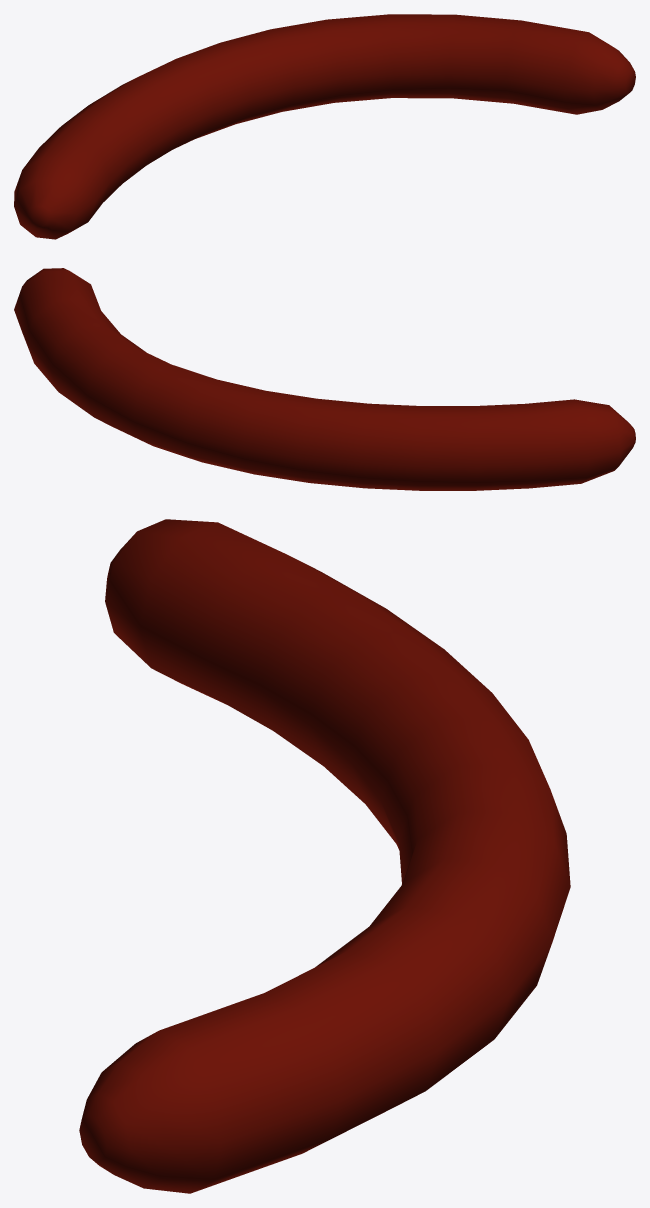
Rendered from Chorizo.fbx.
The picture shows the model from 3 angles, top to bottom: view 1: azimuth 30°, elevation 25°; view 2: azimuth 150°, elevation 25°; view 3: azimuth 270°, elevation 25°; orthographic projection. The views are drawn at different scales.
Visible parts, largest first — view 1: BézierCurve.001; view 2: BézierCurve.001; view 3: BézierCurve.001.
Part boxes in pixels (x1=…): BézierCurve.001: x1=14, y1=14, x2=635, y2=239; BézierCurve.001: x1=14, y1=268, x2=635, y2=490; BézierCurve.001: x1=79, y1=519, x2=570, y2=1193.
Size of the model in its own units: 296 by 35.08 by 105.
